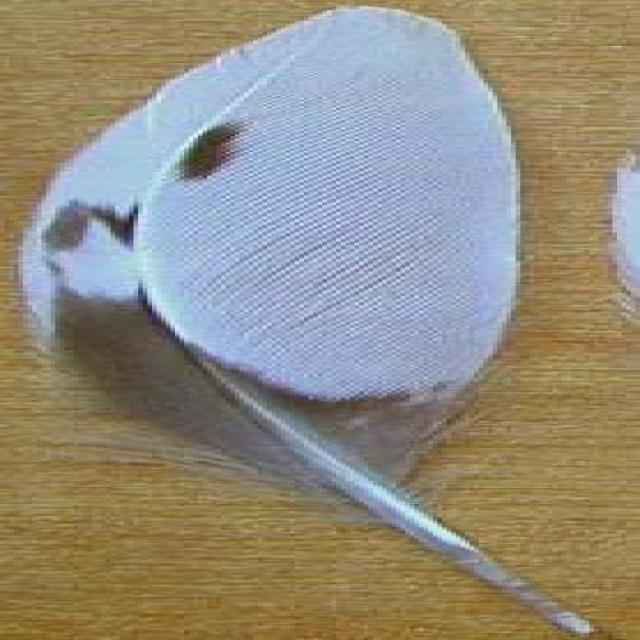feather: (14, 4, 608, 637)
